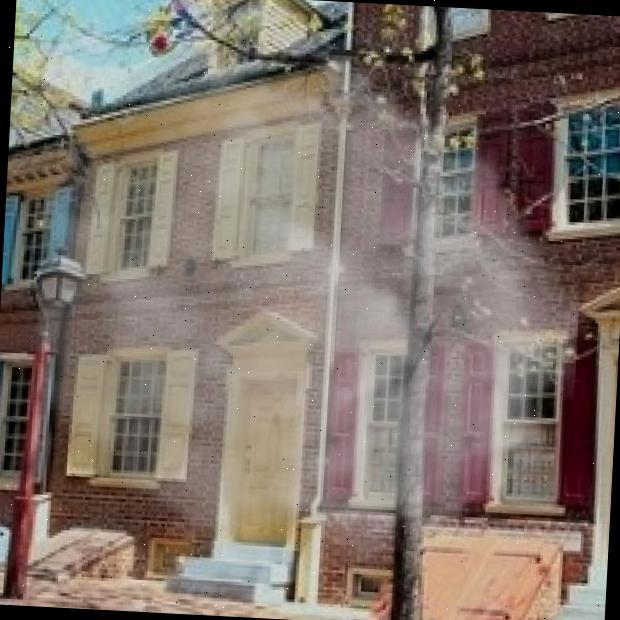smoke: (24, 20, 592, 593)
